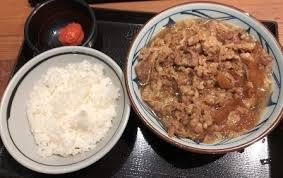niku: (124, 1, 283, 165)
